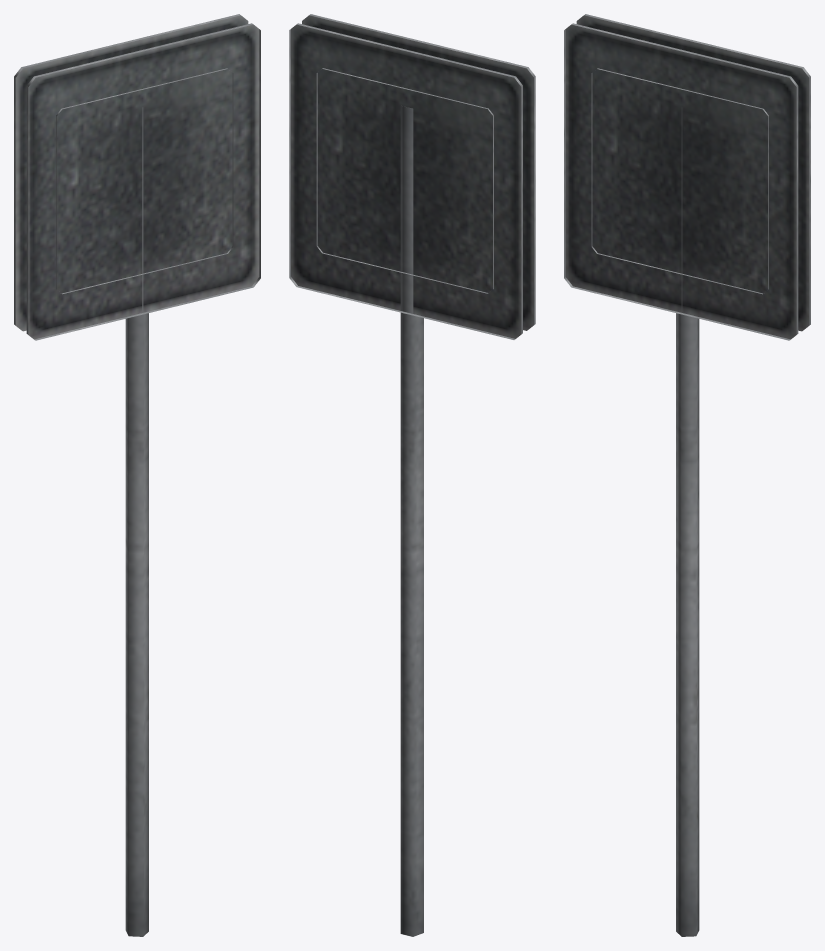
File: pedestrians_reflective_ru.fbx
The picture shows the model from 3 angles, left to right: view 1: azimuth 30°, elevation 25°; view 2: azimuth 150°, elevation 25°; view 3: azimuth 330°, elevation 25°; orthographic projection.
Parts seen in each view (by area): view 1: Defaultpart 02; view 2: Defaultpart 02; view 3: Defaultpart 02.
Part boxes in pixels (x1,y1,x2,y2): Defaultpart 02: (14,14,260,936); Defaultpart 02: (289,14,535,936); Defaultpart 02: (564,14,810,936).
Bounding box in the file's own units: 0.8262 × 3.01 × 0.0937.
